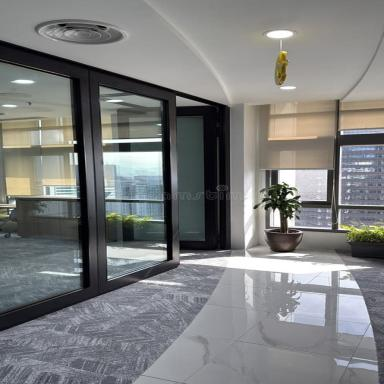glass_panel: (2, 67, 75, 209), (100, 89, 166, 244), (104, 153, 162, 199), (339, 144, 383, 204), (278, 170, 328, 202), (294, 206, 332, 228)
